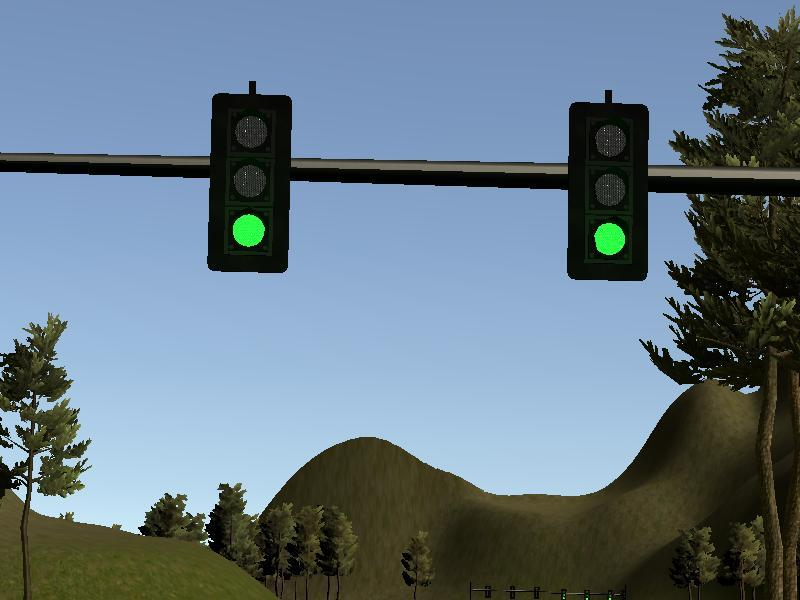Green: (208, 93, 290, 272), (567, 102, 649, 281)
